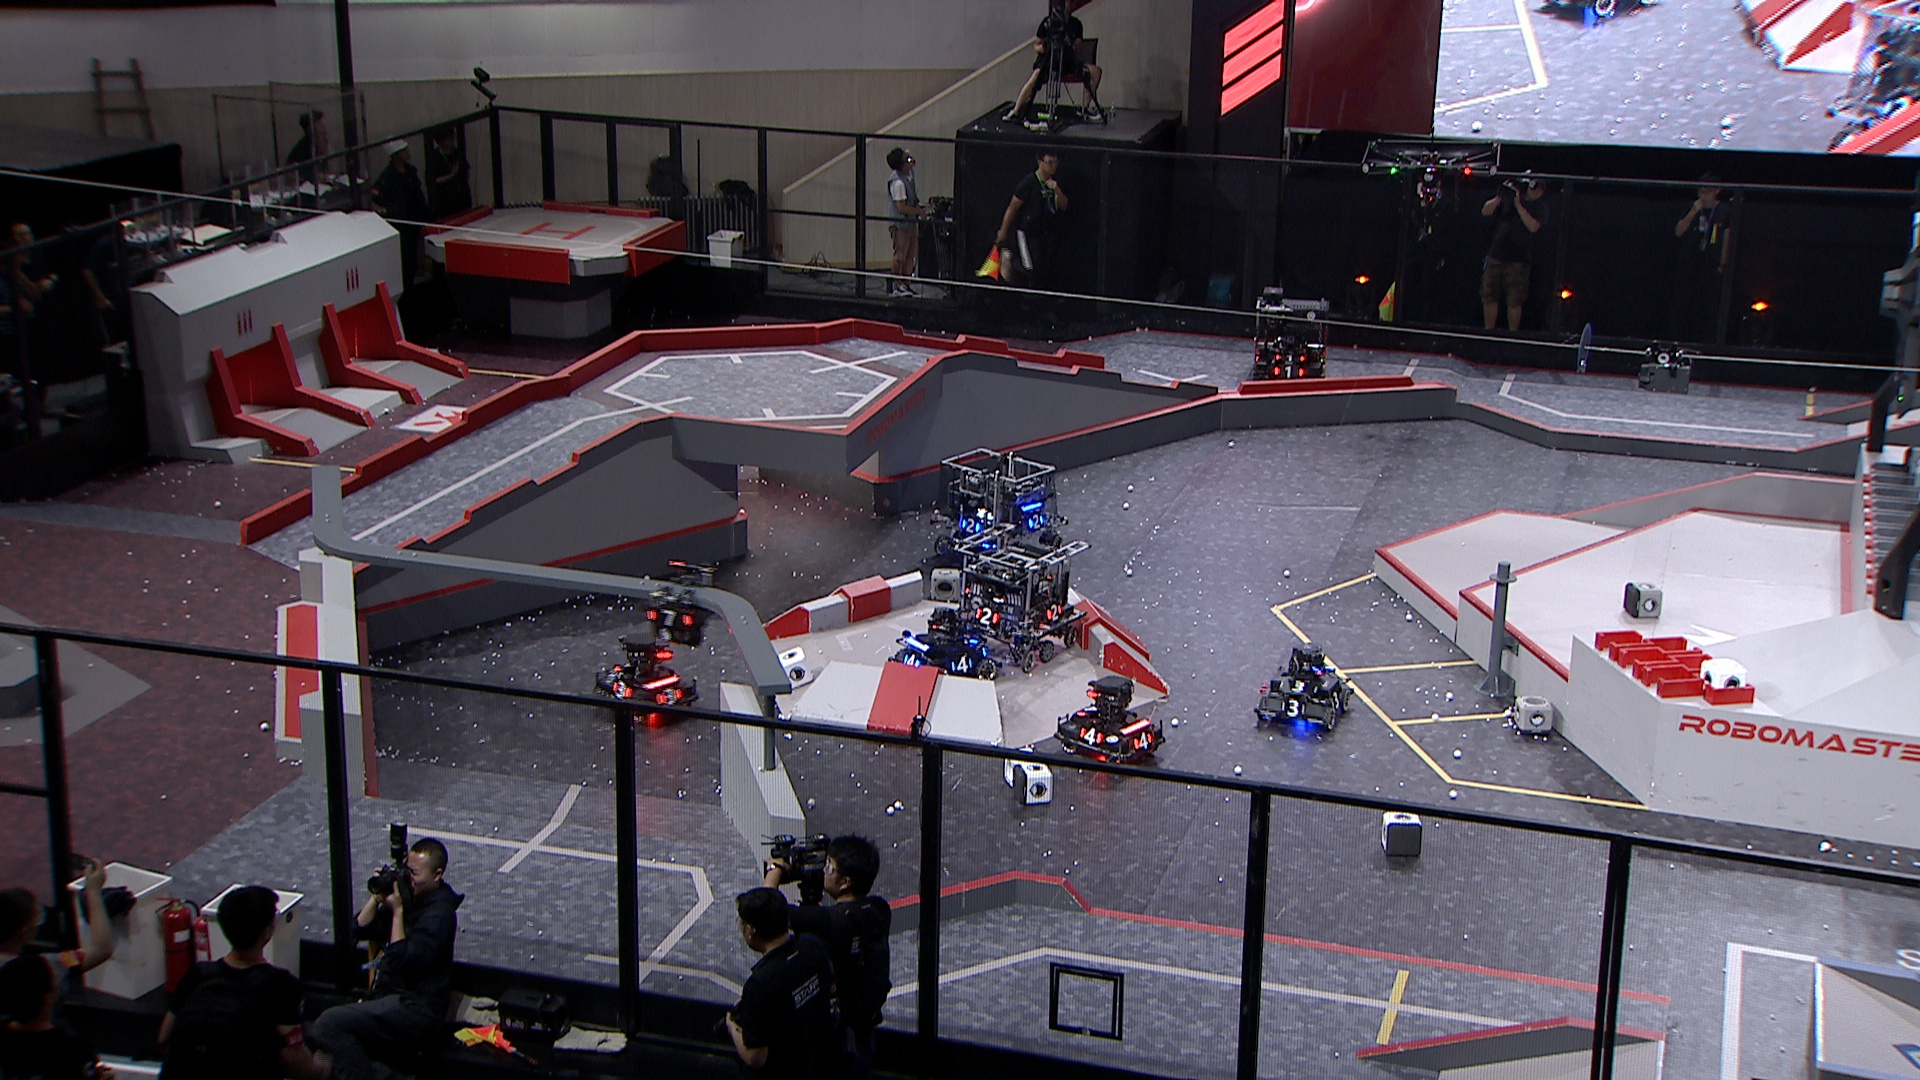armor: (646, 607, 695, 628), (1278, 680, 1321, 698), (973, 607, 1001, 626), (1077, 727, 1105, 746), (655, 684, 683, 703), (1280, 699, 1307, 717), (611, 680, 633, 702), (951, 655, 975, 675), (1133, 731, 1154, 752), (1273, 367, 1305, 380), (960, 518, 982, 537), (1077, 704, 1101, 721), (1044, 604, 1065, 622), (1328, 692, 1346, 712), (1027, 513, 1046, 531), (1275, 352, 1305, 363), (902, 654, 923, 669)
car: (955, 520, 1093, 684), (934, 448, 1064, 570), (1054, 671, 1168, 769), (593, 629, 704, 727), (887, 605, 998, 698), (1255, 646, 1353, 737), (1253, 286, 1331, 389)
ignore: (1822, 1, 1917, 148), (1543, 0, 1655, 21)
watcher: (644, 560, 717, 647)
